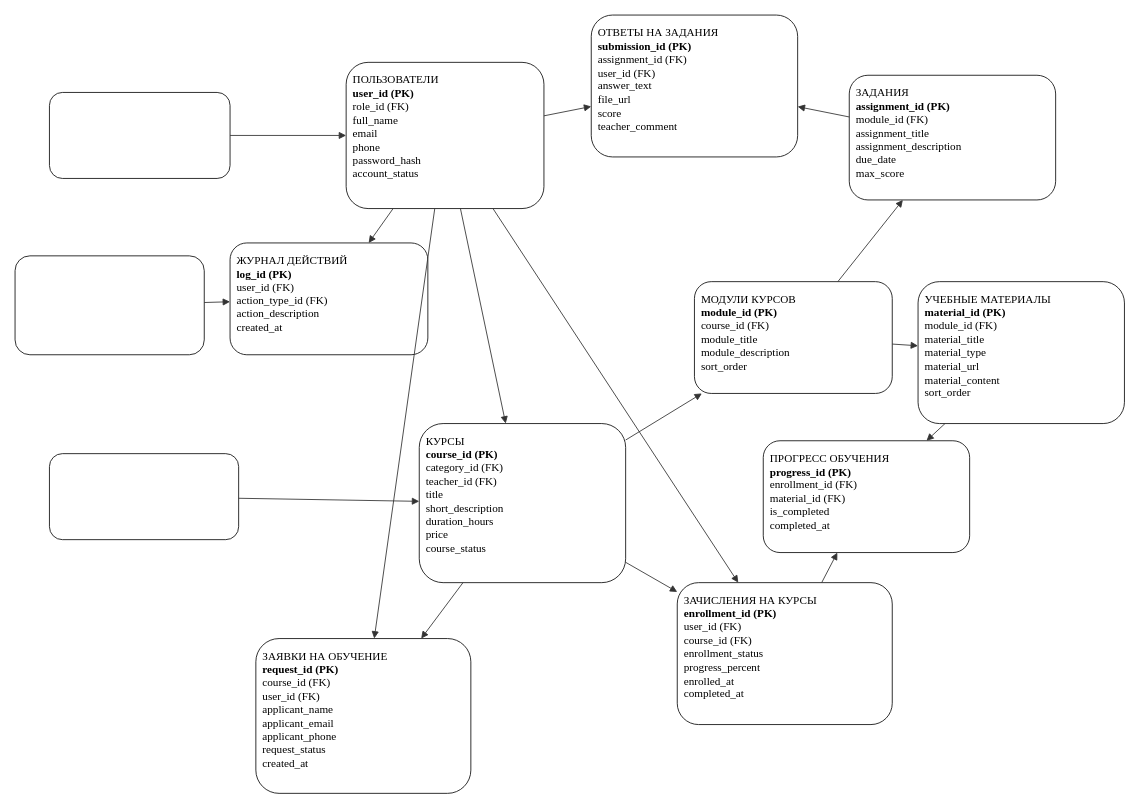
Image size: 1140x808. Some labels were removed from this diagram. The centre of each missing label's shape, as x and y in pixels:
КАТЕГОРИИ КУРСОВ category_id (PK) category_name description: point 144,496
РОЛИ ПОЛЬЗОВАТЕЛЕЙ role_id (PK) role_name description: point 139,135
ТИПЫ ДЕЙСТВИЙ action_type_id (PK) action_name short_name description: point 109,305
